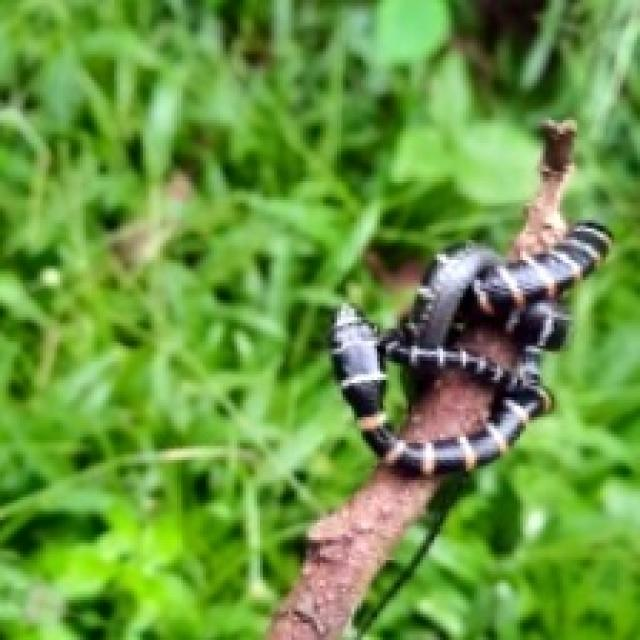paradise tree snake: (269, 120, 609, 637), (331, 223, 609, 474), (294, 511, 383, 637)
